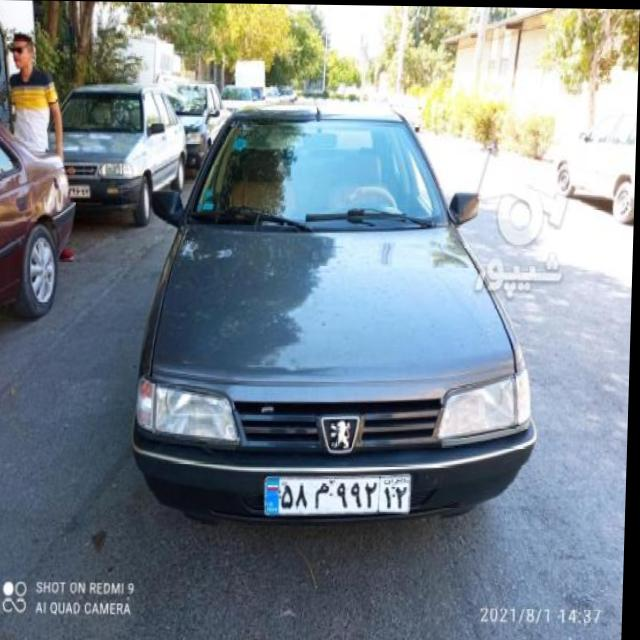licence: (262, 465, 417, 523)
